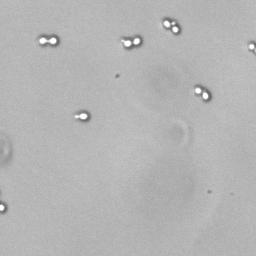budding: (162, 19, 181, 36), (120, 35, 142, 49), (193, 84, 211, 101), (37, 35, 59, 45), (73, 111, 90, 122)
individual: (246, 42, 256, 51), (1, 201, 8, 213)
